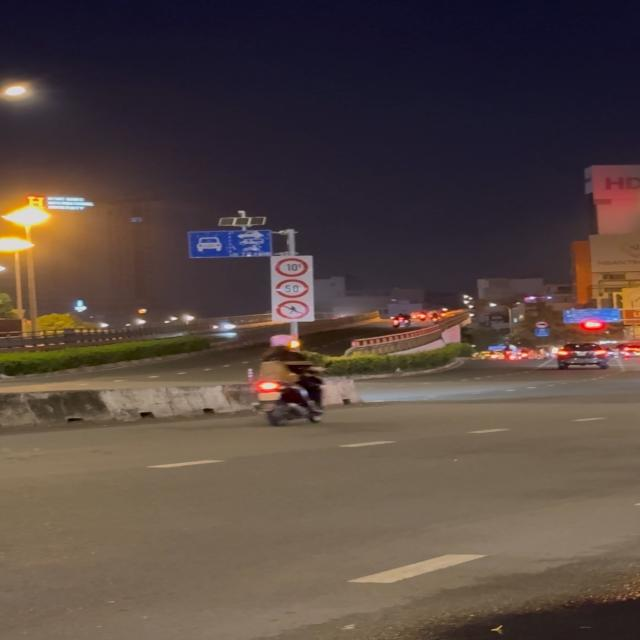Bien bao cam nguoi di bo: (274, 299, 313, 321)
Bien bao toc do toi da cho phep: (276, 279, 309, 298)
